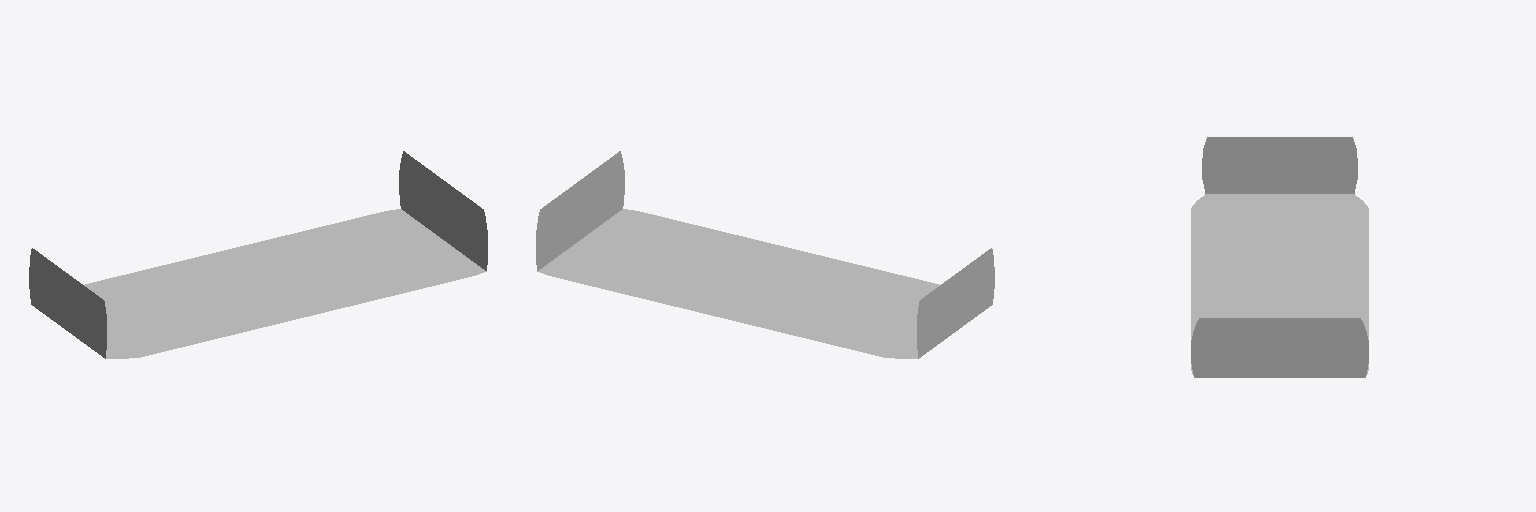
Rendered from BottomDeck.obj.
The picture shows the model from 3 angles: view 1: azimuth 30°, elevation 25°; view 2: azimuth 150°, elevation 25°; view 3: azimuth 270°, elevation 25°; orthographic projection.
Size of the model in its own units: 27 by 4.12 by 11.12.